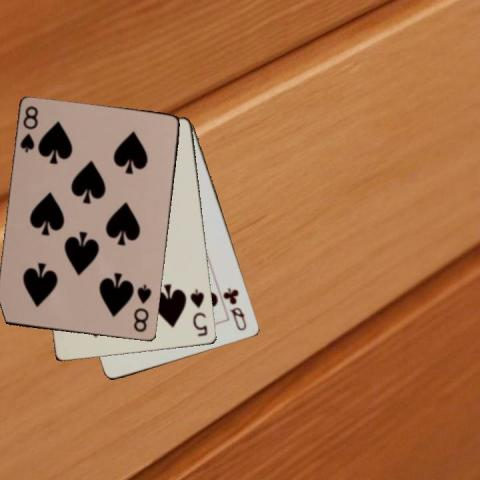5s: (188, 286, 209, 338)
8s: (17, 103, 40, 155), (131, 281, 152, 334)
Qc: (221, 284, 249, 332)
